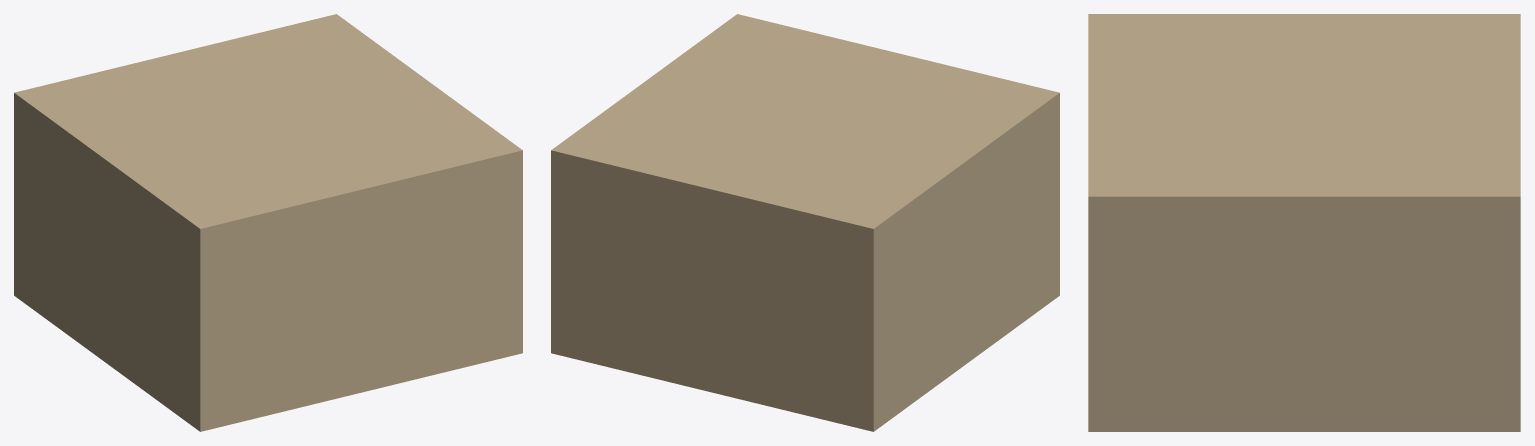
The picture shows the model from 3 angles, left to right: view 1: azimuth 30°, elevation 25°; view 2: azimuth 150°, elevation 25°; view 3: azimuth 270°, elevation 25°; orthographic projection. The views are drawn at different scales.
Visible parts, largest first — view 1: Pyramid Exterior (core masonry); view 2: Pyramid Exterior (core masonry); view 3: Pyramid Exterior (core masonry).
Boxes of the visible parts, x1,y1,x2,y2 form: Pyramid Exterior (core masonry): (14,14,522,431); Pyramid Exterior (core masonry): (551,14,1059,431); Pyramid Exterior (core masonry): (1088,14,1520,431).
Size of the model in its own units: 230 by 174 by 230.
